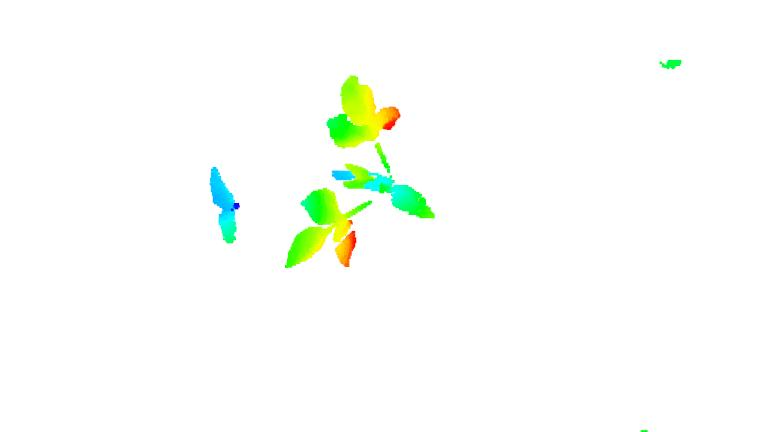mungbean: (282, 72, 440, 273), (200, 163, 258, 253)
